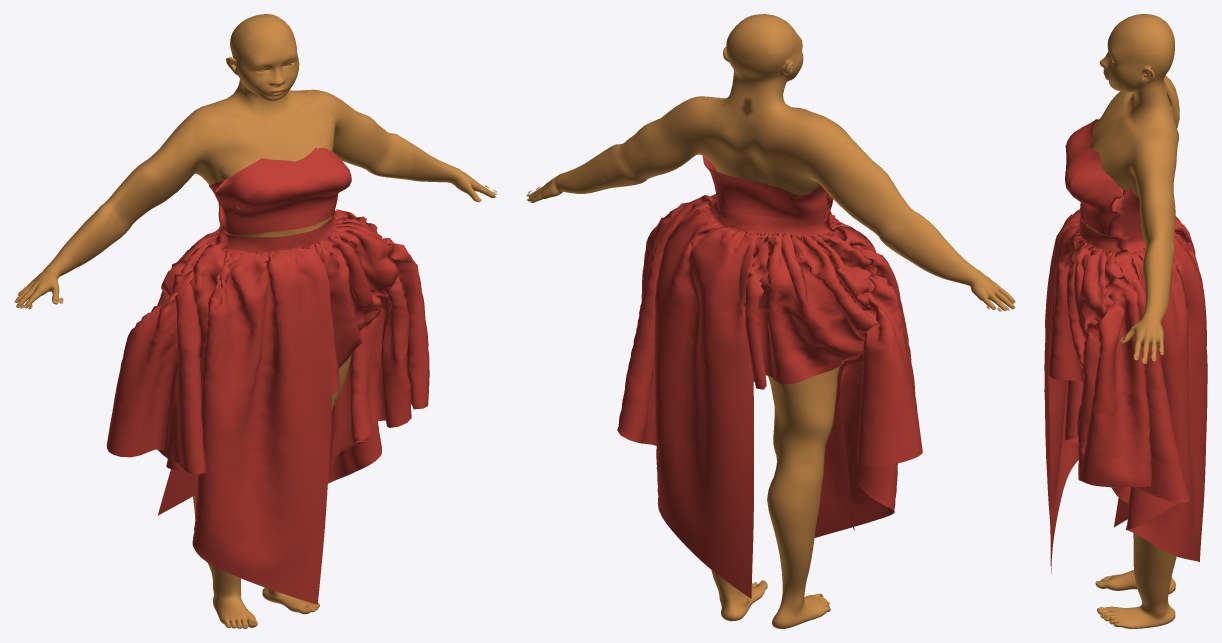
Rendered from dress2.glb.
3 renders of one model, left to right at view 1: azimuth 30°, elevation 25°; view 2: azimuth 150°, elevation 25°; view 3: azimuth 270°, elevation 25°, orthographic.
Visible parts, largest first — view 1: Project 1, Body; view 2: Project 1, Body; view 3: Project 1, Body.
Boxes of the visible parts, <box> form: Project 1: <box>106,147,429,604</box>; Body: <box>14,14,495,628</box>; Project 1: <box>617,156,922,598</box>; Body: <box>527,14,1015,628</box>; Project 1: <box>1044,119,1207,573</box>; Body: <box>1086,14,1179,628</box>.
Bounding box in the file's own units: 1.59 × 1.88 × 0.4668.
